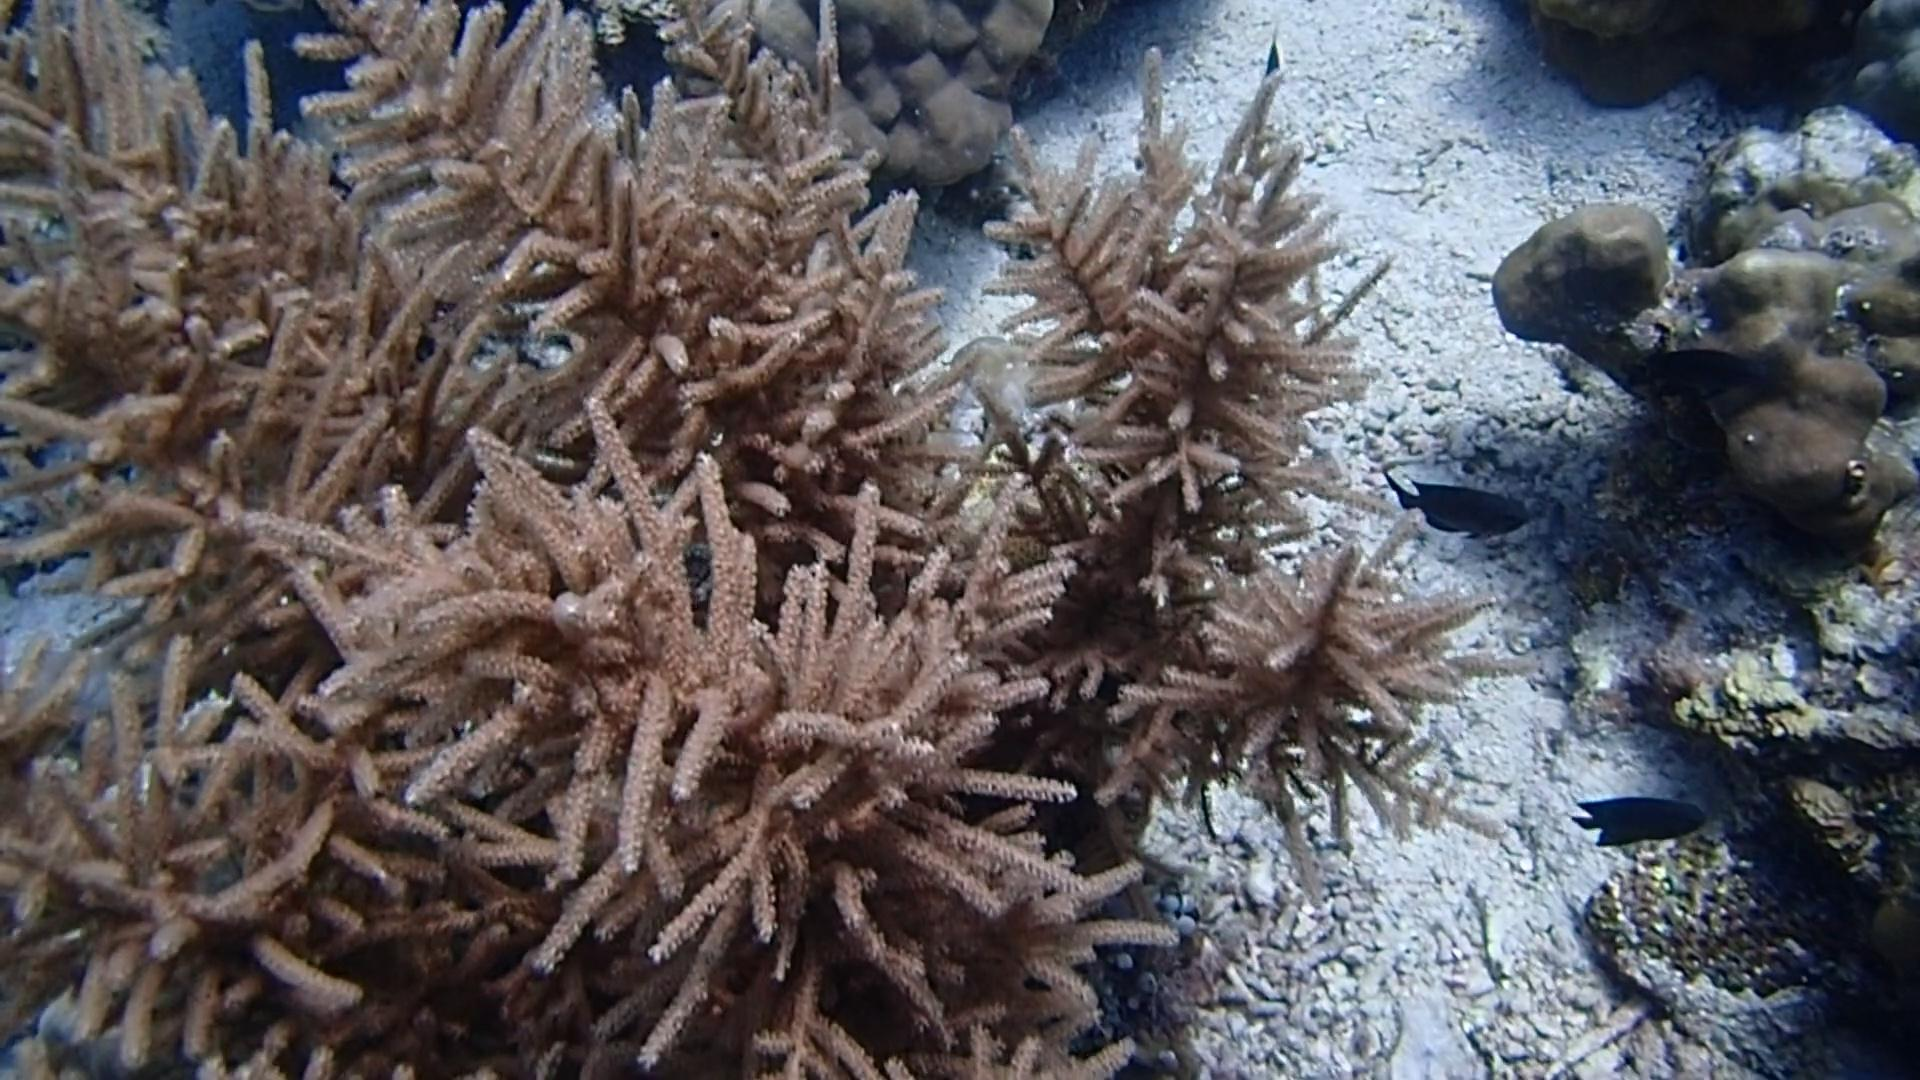Dark Fish: (1381, 460, 1530, 553), (1560, 789, 1710, 858), (1609, 343, 1759, 411)
Yellow Tail: (1251, 20, 1292, 96)
